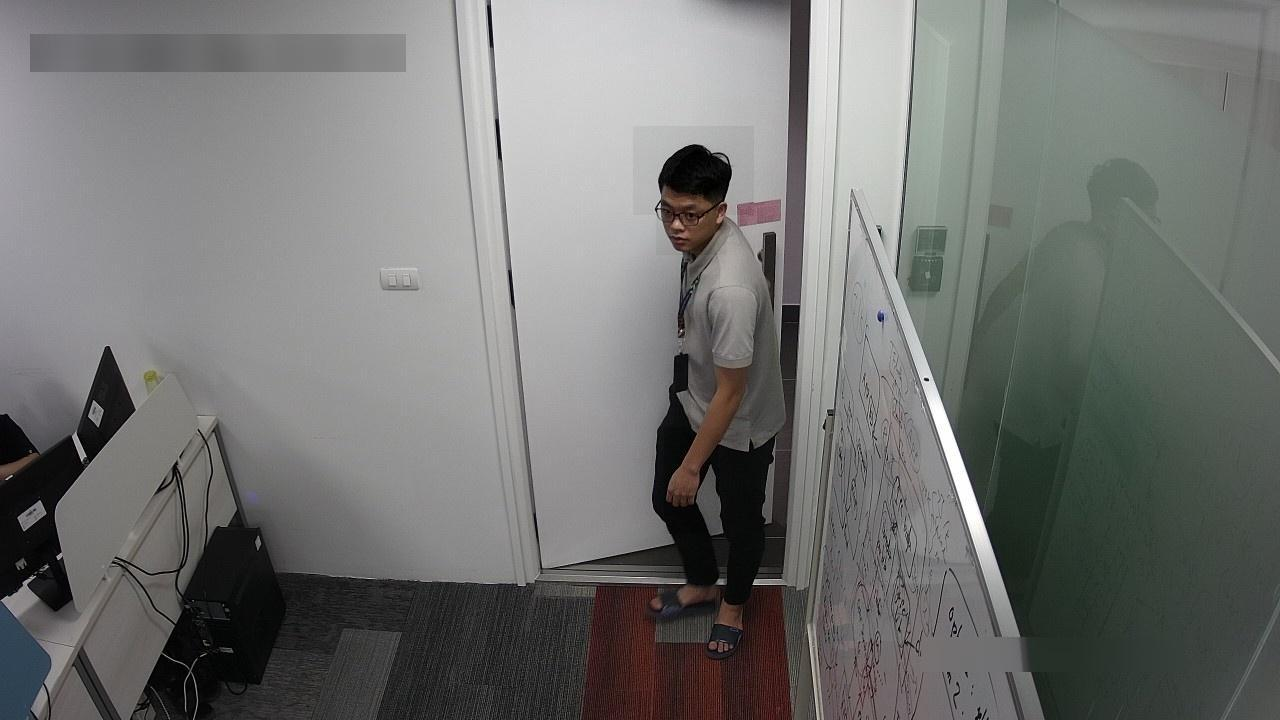no_apron: (664, 427, 720, 534)
no_gloves: (633, 126, 754, 216)
no_hairnet: (656, 181, 727, 255)
